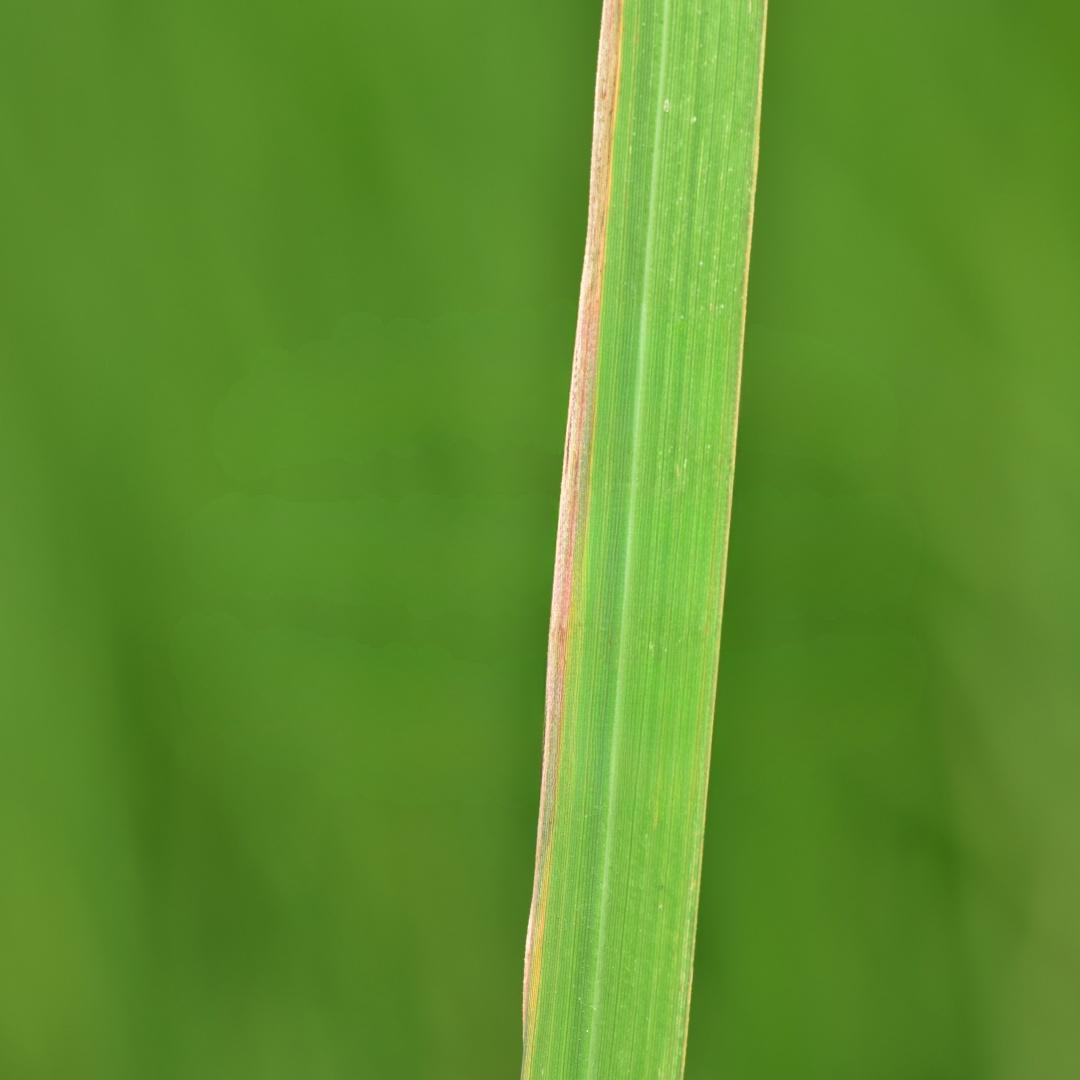BLB: (523, 0, 622, 1032)
